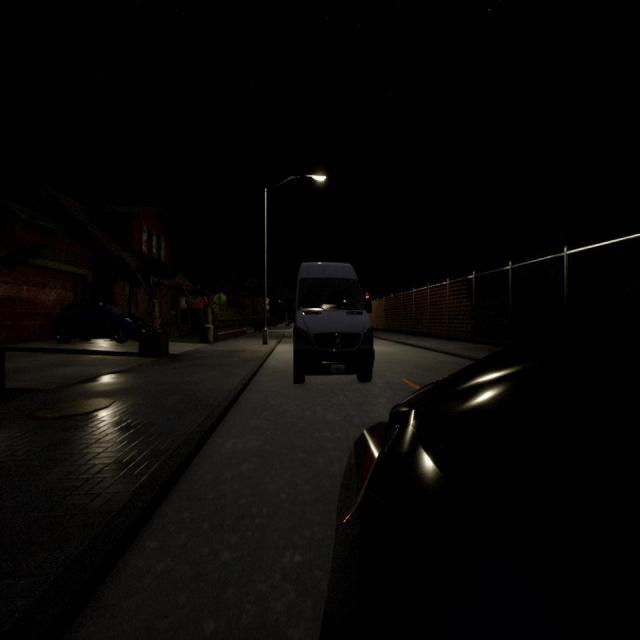Vehicle: (322, 254, 640, 639), (292, 262, 376, 390), (59, 297, 132, 345)
traffic_light: (365, 294, 369, 306)
